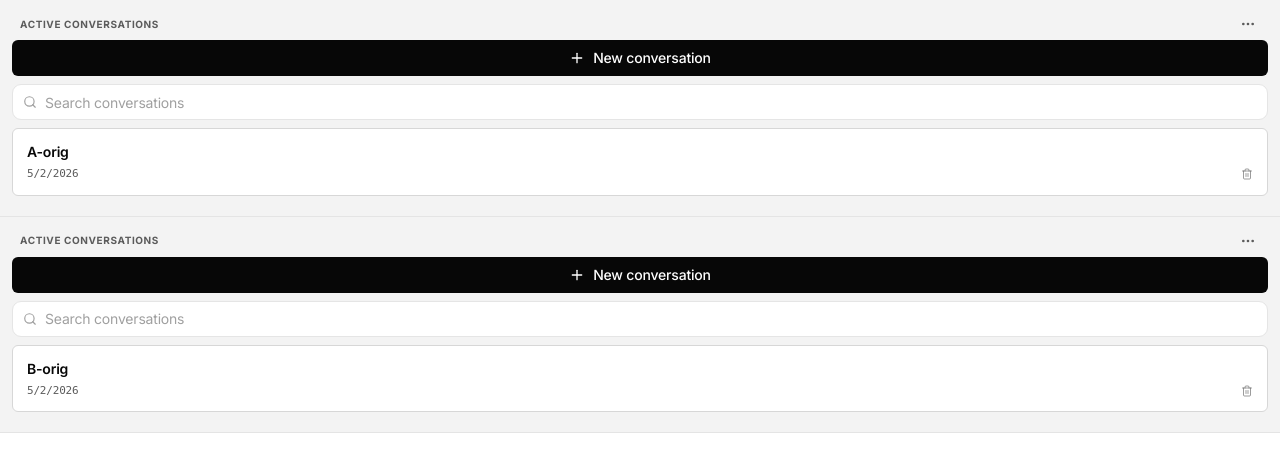
Scenario: AgentConversationList › scopes editing state to its own DOM tree
Double-click the text "A-orig": (48, 152) [27,143,69,160]
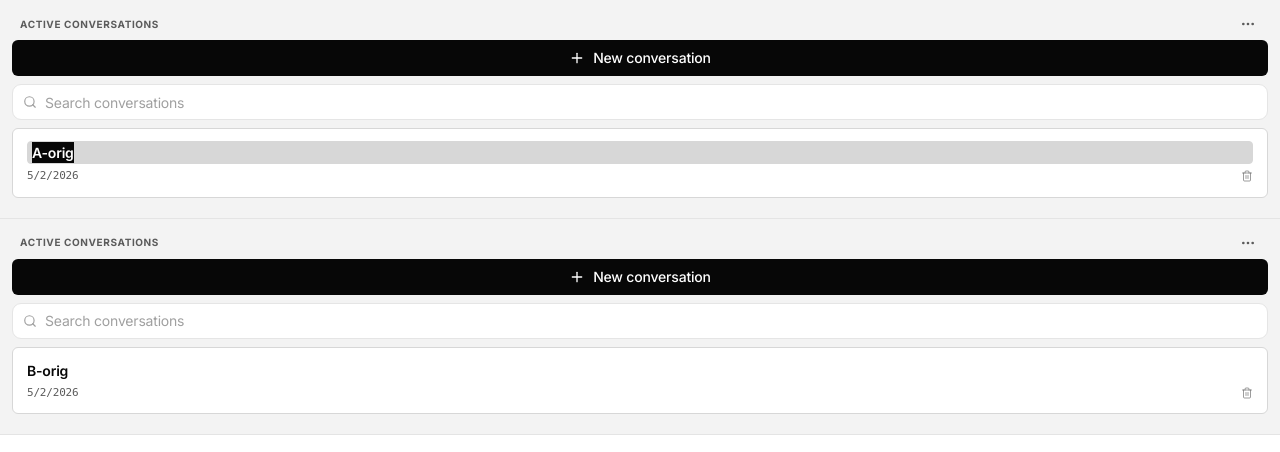
Expected: the field is shown, [27,141,1253,164]
